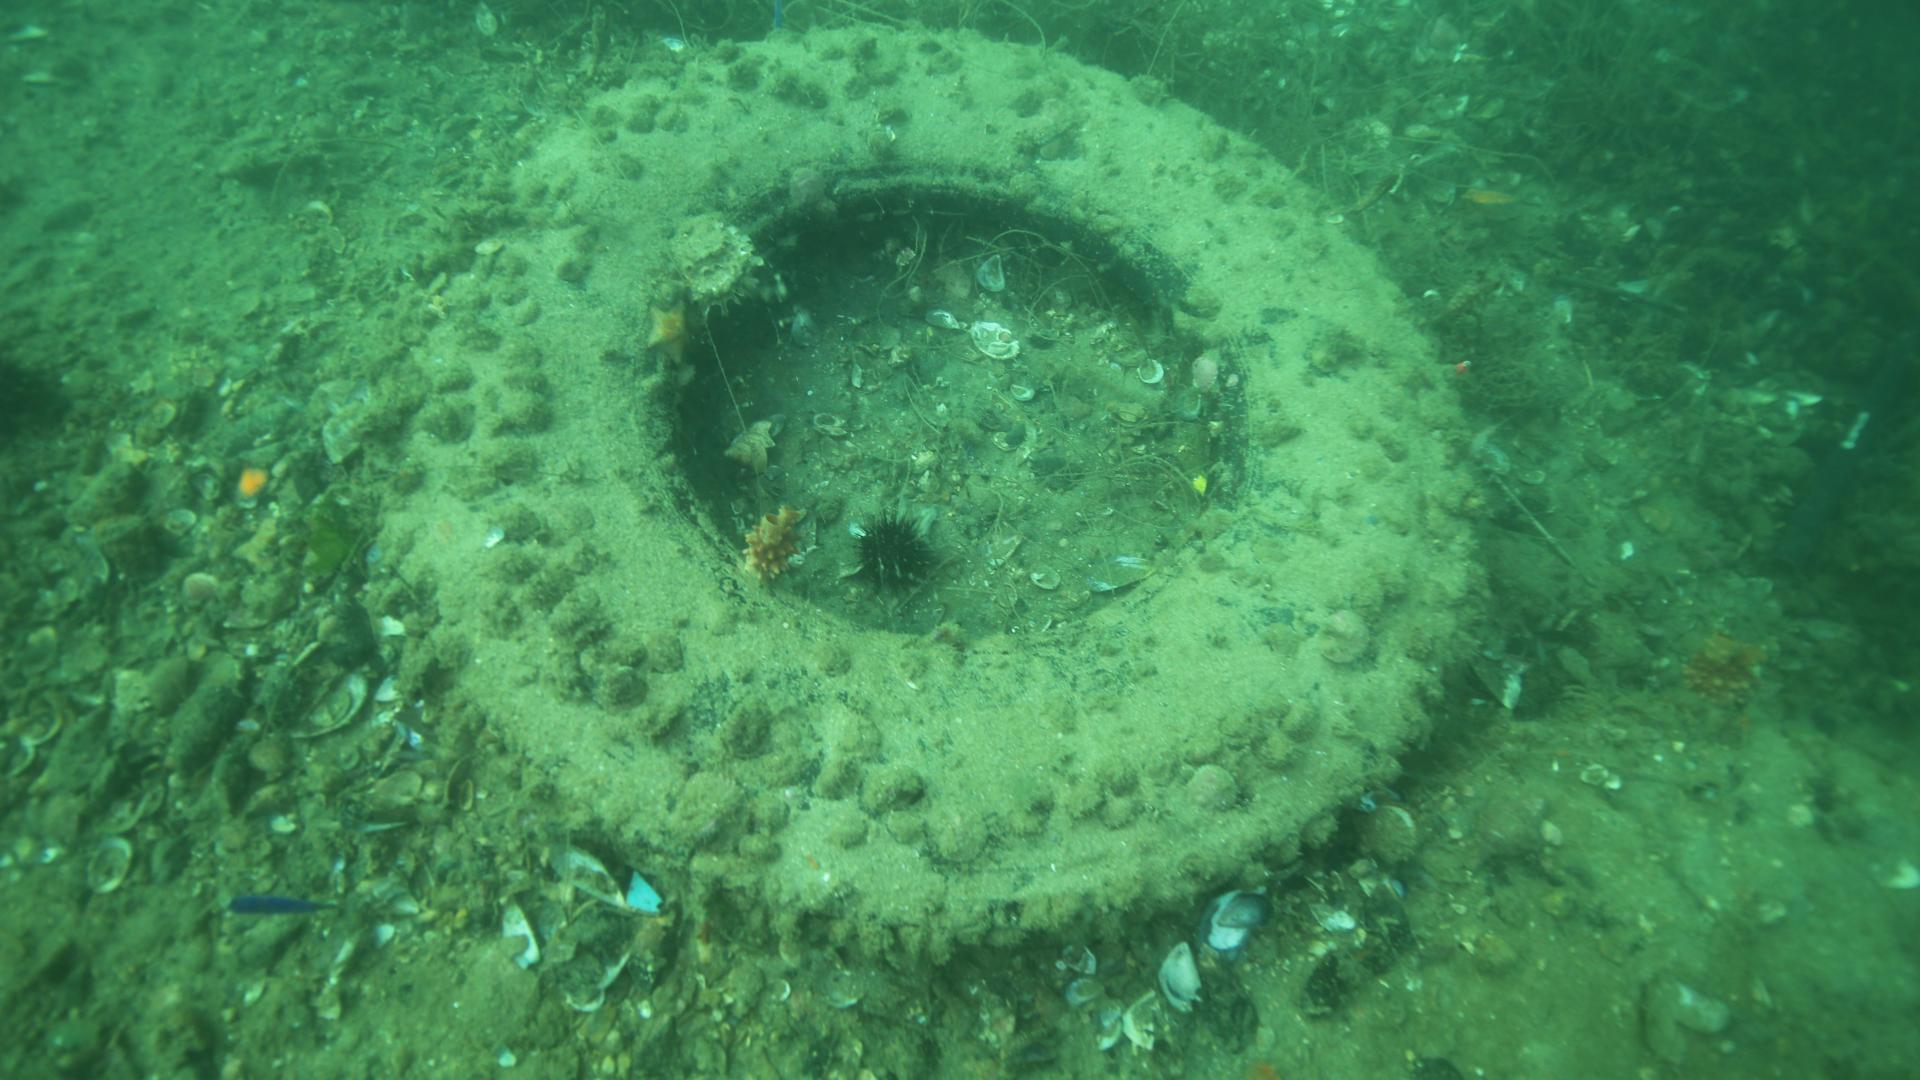tire: (389, 18, 1484, 973)
